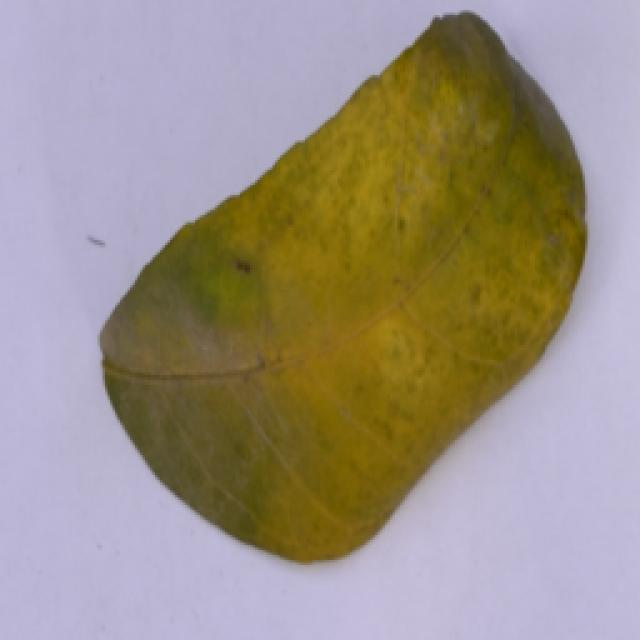blackspot: (86, 4, 596, 568)
